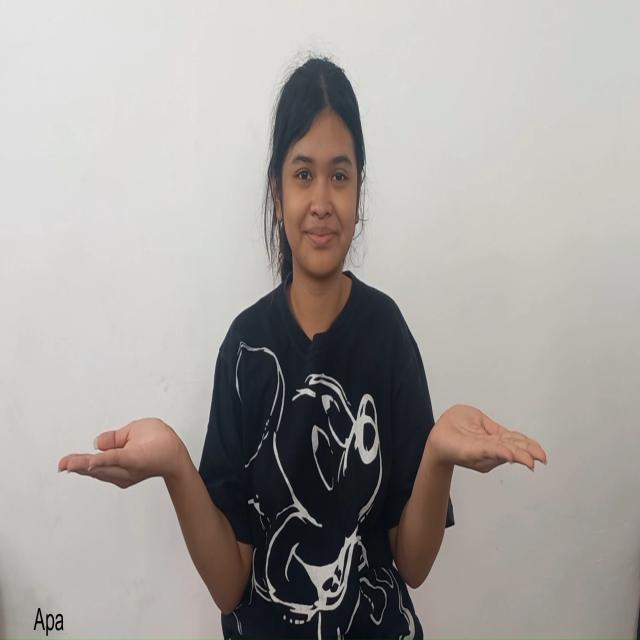Apa -BISINDO-: (48, 388, 560, 616)
